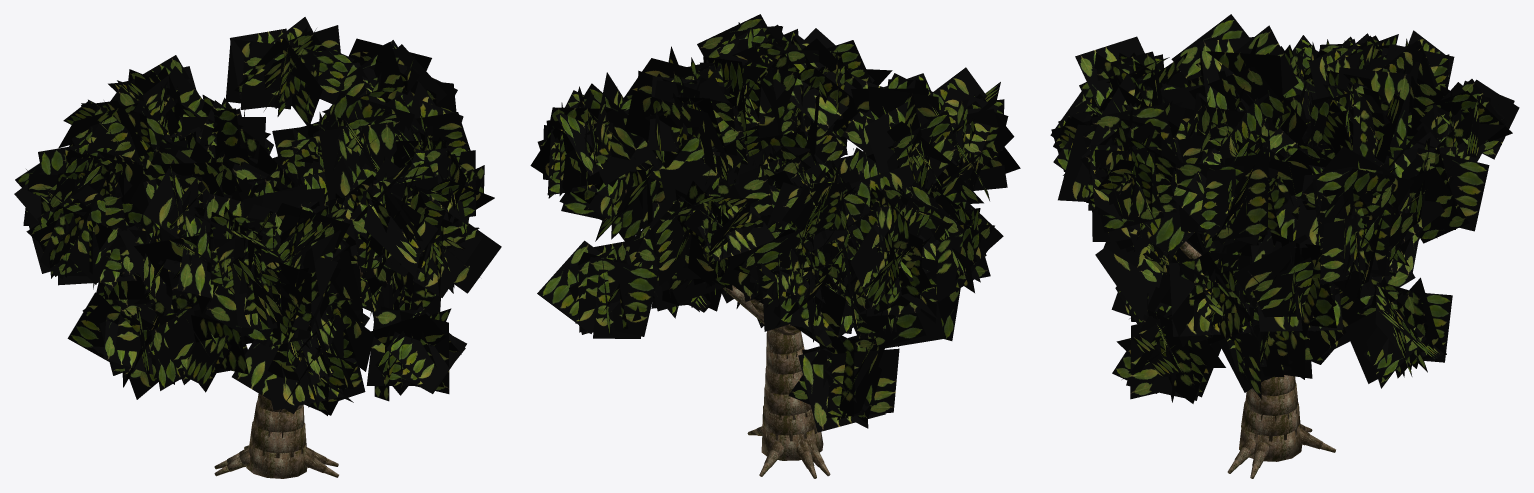
File: giant_2.glb
3 renders of one model, left to right at view 1: azimuth 30°, elevation 25°; view 2: azimuth 150°, elevation 25°; view 3: azimuth 270°, elevation 25°, orthographic. The views are drawn at different scales.
Visible parts, largest first — view 1: giant; view 2: giant; view 3: giant.
Part boxes in pixels (x1=…): giant: x1=14, y1=17, x2=501, y2=478; giant: x1=530, y1=14, x2=1020, y2=478; giant: x1=1050, y1=14, x2=1519, y2=478.
Bounding box in the file's own units: 20.58 × 17.39 × 18.08.
Materials: 2 (2 with a texture image).
